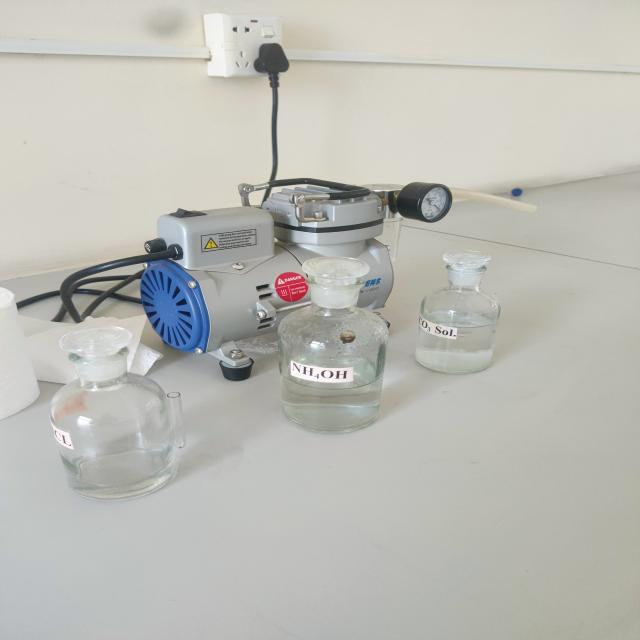Reagent_Bottle: (28, 309, 210, 518), (244, 229, 408, 444), (400, 236, 528, 386)
